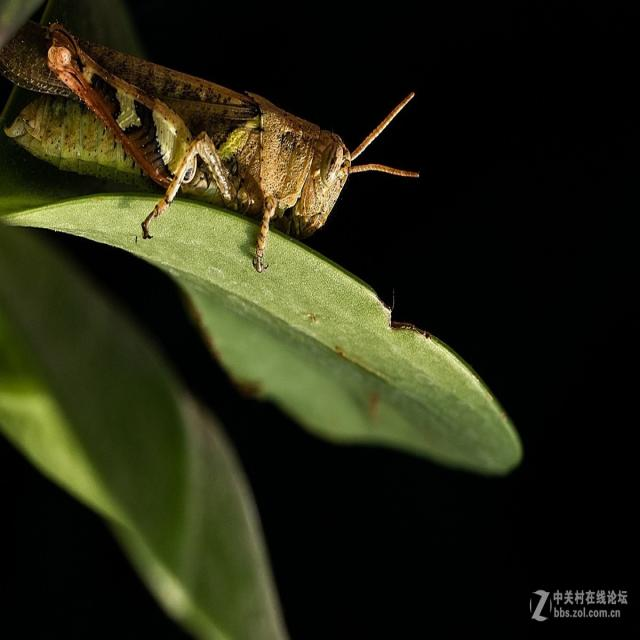ZhaMeng: (1, 22, 435, 282)
